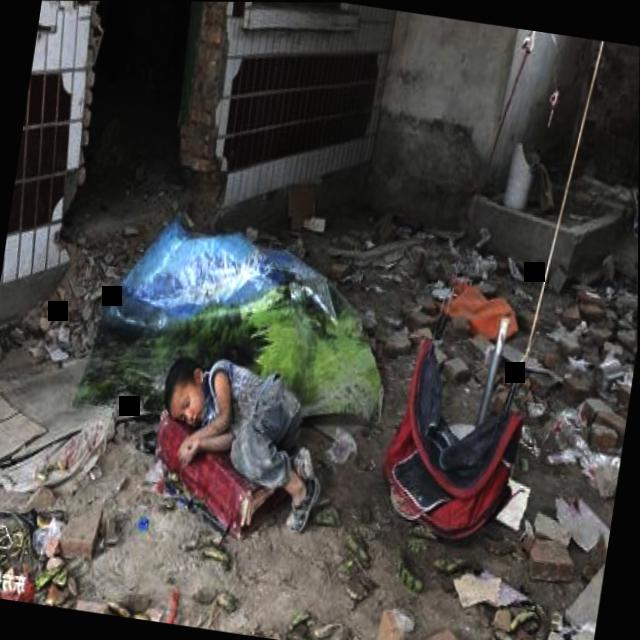Fall-Detected: (145, 342, 347, 534)
